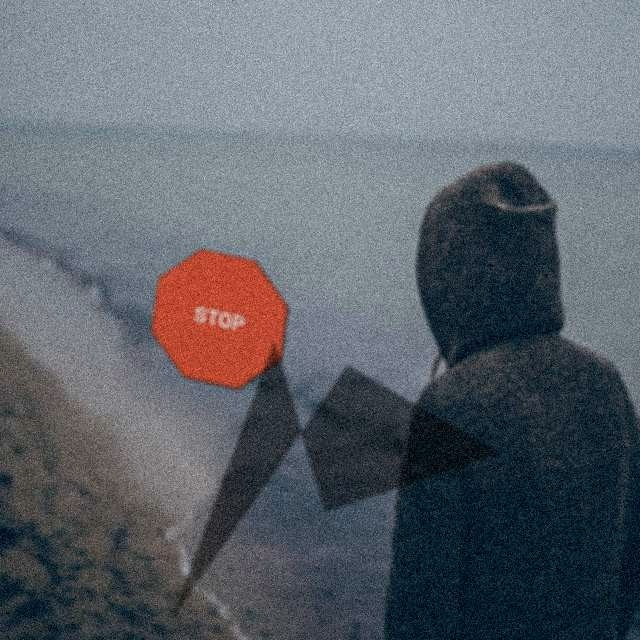STOP: (150, 248, 289, 390)
